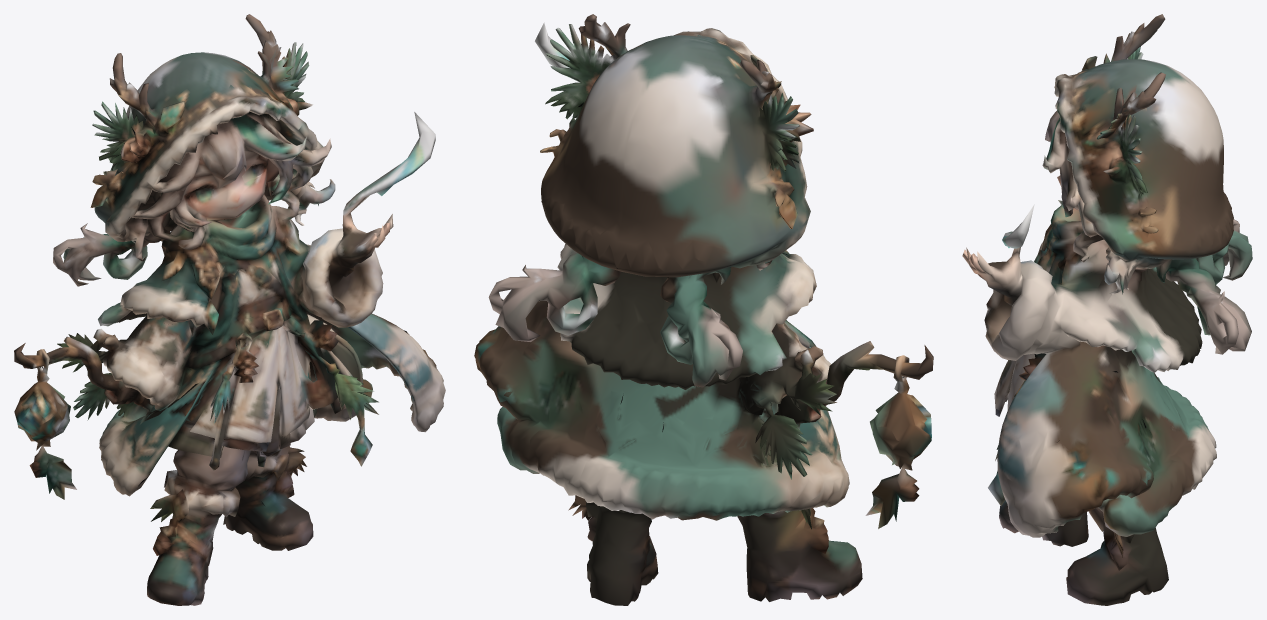
Rendered from taiga_painted.glb.
3 renders of one model, left to right at view 1: azimuth 30°, elevation 25°; view 2: azimuth 150°, elevation 25°; view 3: azimuth 270°, elevation 25°, orthographic. The views are drawn at different scales.
Visible parts, largest first — view 1: Body; view 2: Body; view 3: Body.
Boxes of the visible parts, <box> form: Body: <box>14,14,445,605</box>; Body: <box>474,14,933,605</box>; Body: <box>962,14,1252,605</box>.
Bounding box in the file's own units: 0.8389 × 1 × 0.5063.
1 material, 1 textured.
